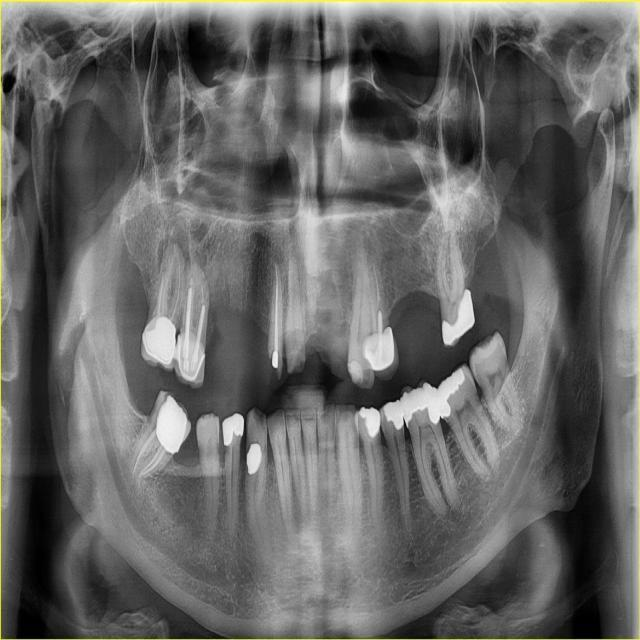Caries: (253, 407, 267, 433), (224, 444, 230, 466), (217, 441, 220, 466)
Crown: (360, 326, 400, 379), (140, 315, 177, 371), (174, 332, 205, 385)
Filling: (157, 395, 190, 453), (442, 290, 474, 345), (400, 384, 440, 427), (436, 368, 464, 417), (358, 405, 381, 438), (223, 411, 243, 446), (383, 401, 405, 430), (247, 441, 263, 475), (346, 359, 363, 385)
Missing teeth: (201, 319, 266, 382), (392, 290, 445, 360), (174, 425, 201, 471), (312, 310, 338, 355)
Periapical lesion: (157, 222, 180, 270), (177, 229, 190, 261), (189, 224, 210, 243), (453, 497, 465, 521), (191, 251, 207, 269), (439, 506, 458, 521)
Root Canal Treatment: (134, 428, 158, 475), (160, 254, 174, 316), (172, 252, 183, 324), (139, 447, 164, 473), (140, 450, 164, 476), (158, 272, 164, 314), (374, 268, 380, 304)
